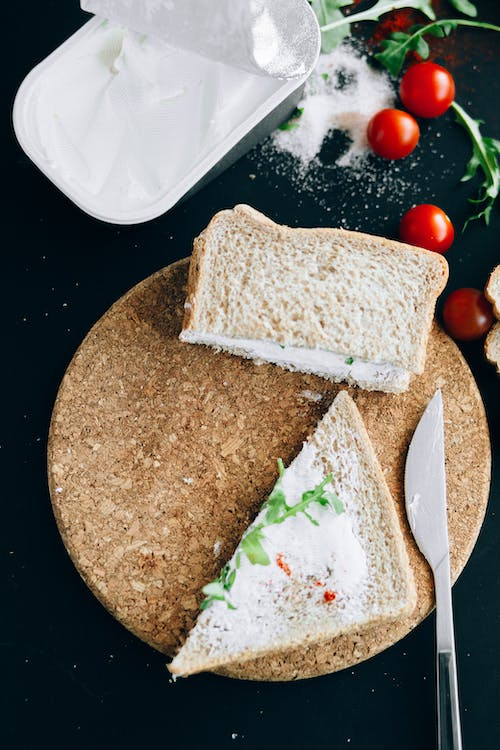knife: (401, 386, 467, 750)
